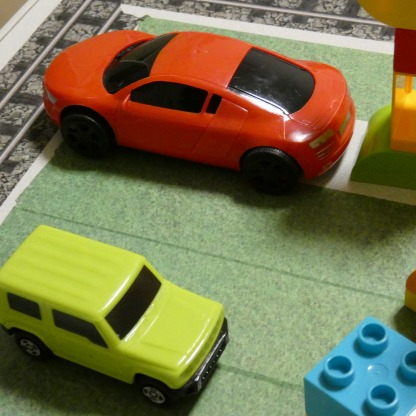car: (36, 25, 360, 193), (2, 222, 229, 406)
